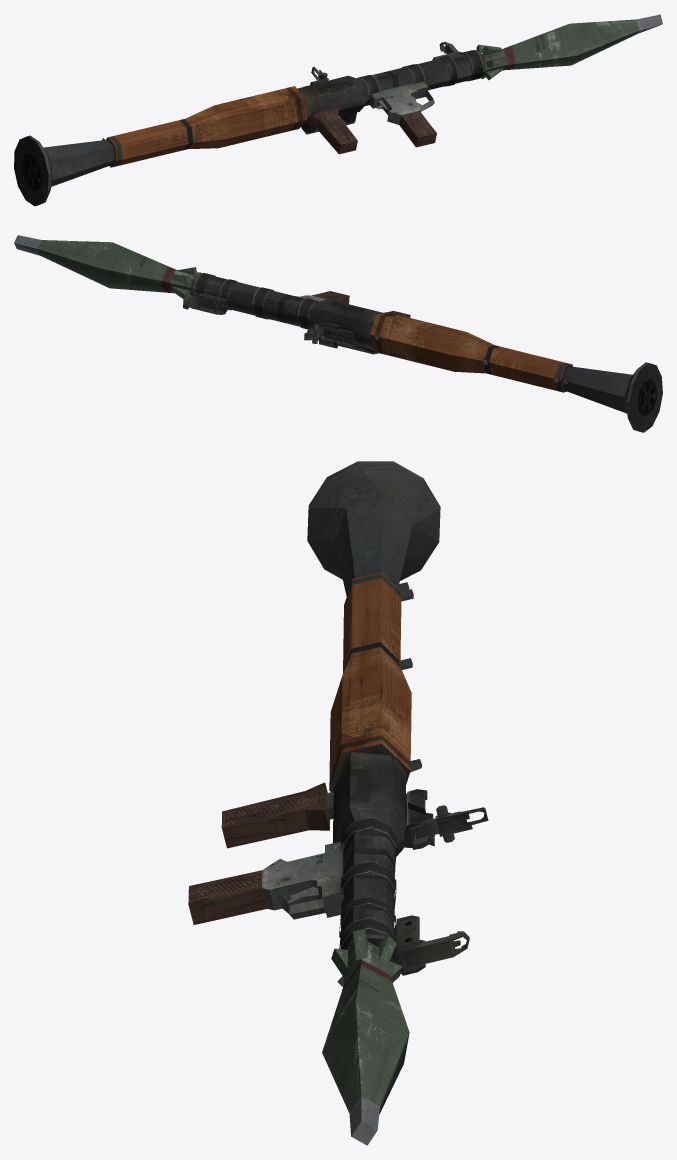
The model's file is 火箭筒_rpg7.glb.
3 renders of one model, top to bottom at view 1: azimuth 30°, elevation 25°; view 2: azimuth 150°, elevation 25°; view 3: azimuth 270°, elevation 25°, orthographic. The views are drawn at different scales.
Parts seen in each view (by area): view 1: 4d2d6410.obj_Material #339_0; view 2: 4d2d6410.obj_Material #339_0; view 3: 4d2d6410.obj_Material #339_0.
Part boxes in pixels (x1=…): 4d2d6410.obj_Material #339_0: x1=14, y1=14, x2=662, y2=206; 4d2d6410.obj_Material #339_0: x1=14, y1=235, x2=662, y2=432; 4d2d6410.obj_Material #339_0: x1=188, y1=461, x2=488, y2=1145.
Size of the model in its own units: 11.46 by 1.1 by 2.37.
1 material, 1 textured.
